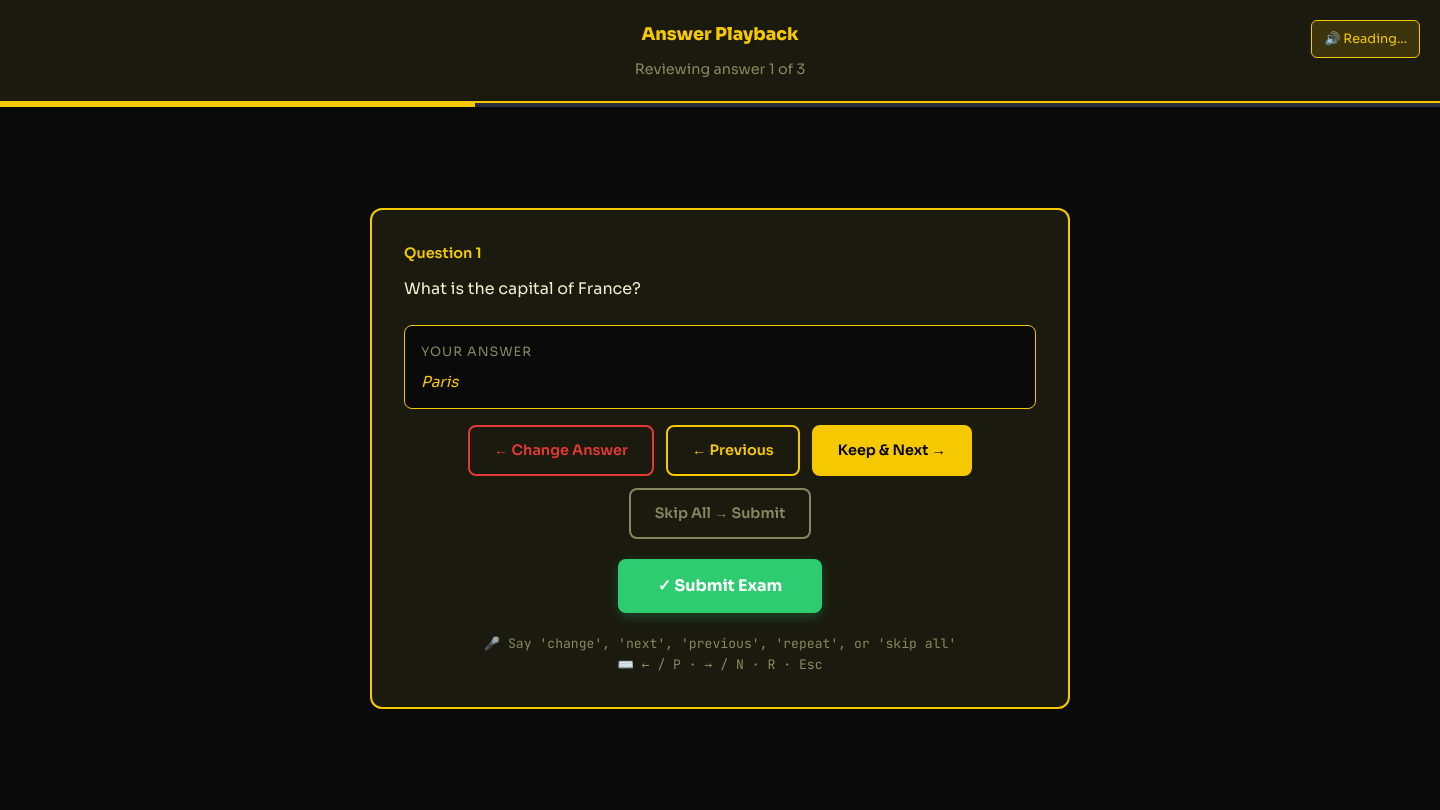
Test: AnswerPlayback › clicking "Keep & Next" on a non-last question advances to the next question
# Start on Q1, click Next → should show Q2
Click the button with aria-label "keep and go to next answer": (892, 451) [812,425,972,476]
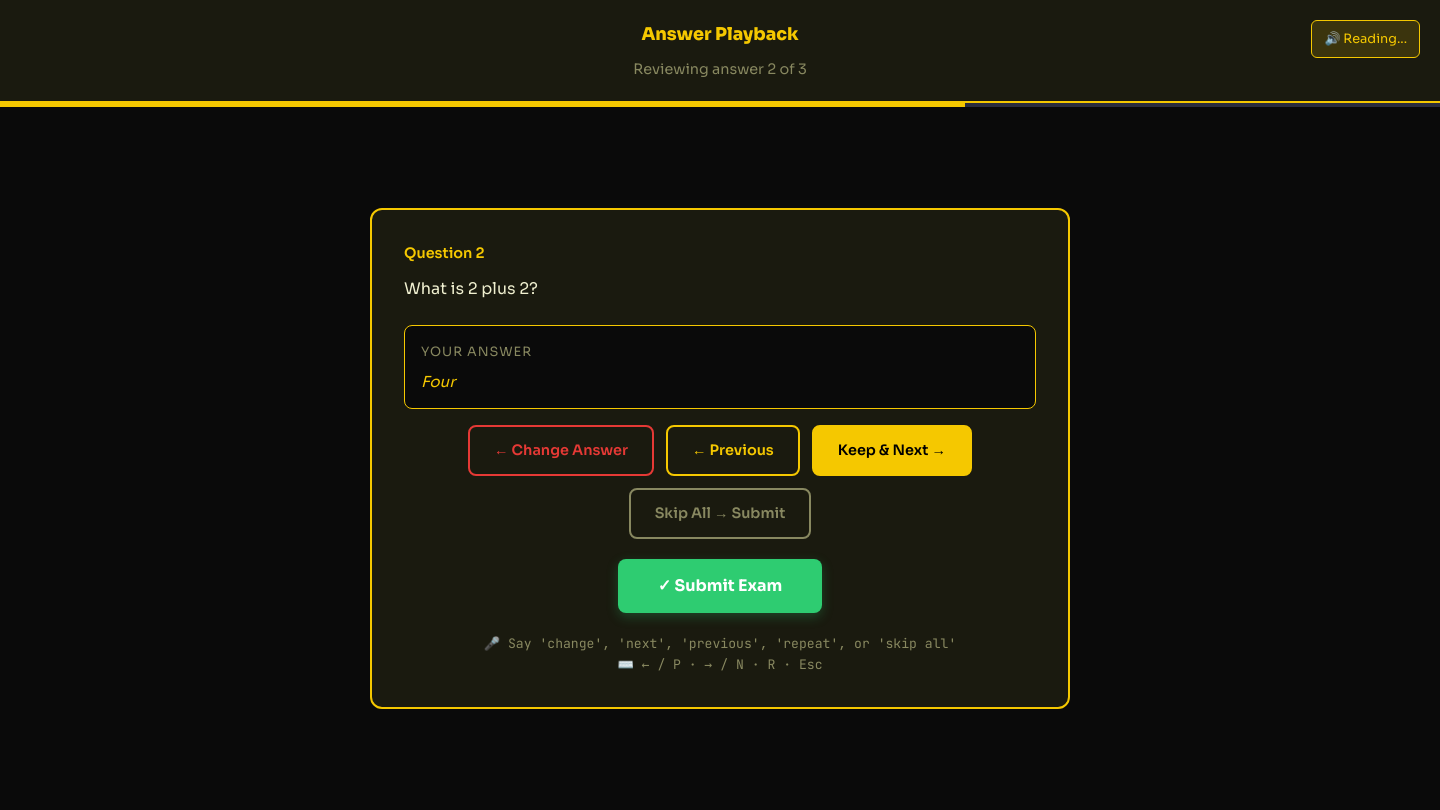
Result: the text "What is 2 plus 2?" is shown at [404,278,538,299]
